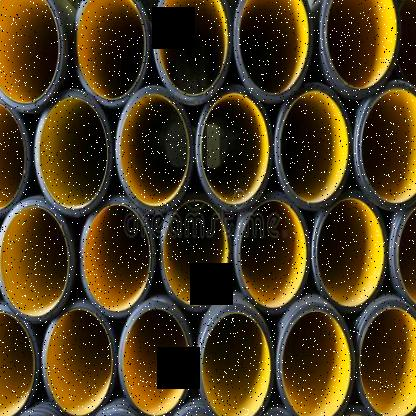pipe: (34, 88, 113, 216), (274, 83, 352, 211), (115, 86, 193, 212), (196, 85, 272, 208), (234, 194, 311, 314), (276, 301, 356, 416), (0, 197, 74, 321), (312, 193, 389, 312), (117, 297, 193, 416), (198, 301, 274, 416), (152, 0, 233, 107), (81, 199, 152, 316), (42, 304, 116, 416), (72, 0, 149, 107), (235, 0, 314, 104), (356, 80, 416, 212), (161, 197, 231, 310), (319, 0, 400, 97), (0, 0, 65, 113), (356, 297, 416, 416), (0, 304, 38, 416), (0, 102, 29, 215), (392, 201, 416, 313)
